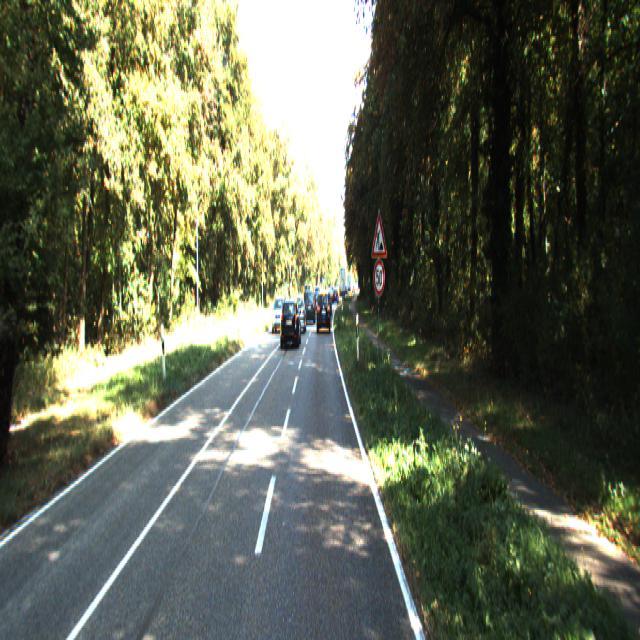Car: (280, 295, 301, 348), (316, 288, 331, 331), (271, 293, 286, 330), (304, 286, 315, 321)
